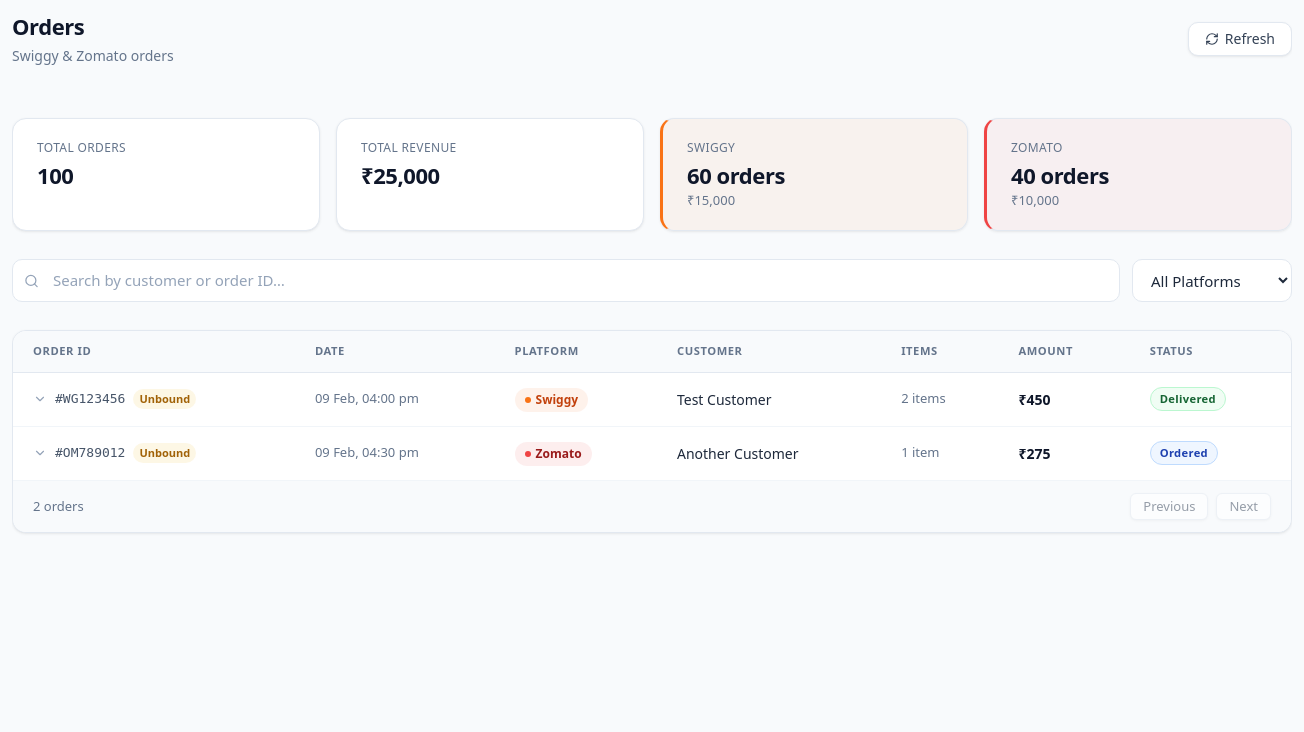
Test case: OrdersPage › filters orders by search term
The image size is (1304, 732).
Type "Test Customer" into the field with placeholder "Search by customer or order ID…".
click(566, 281); type("Test Customer")  # box 12,259 -> 1120,302
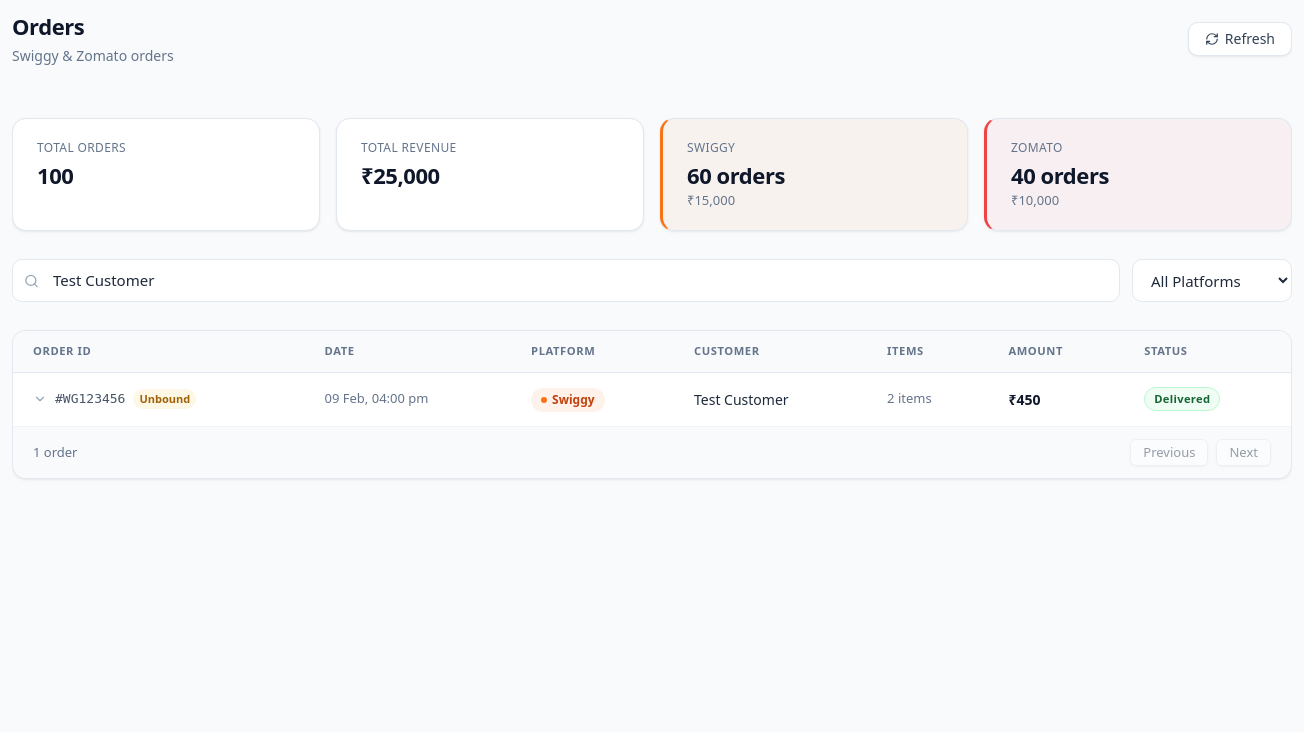
Expected: the text "Test Customer" is shown, 674,372 -> 867,426
Now the text "Another Customer" is gone
